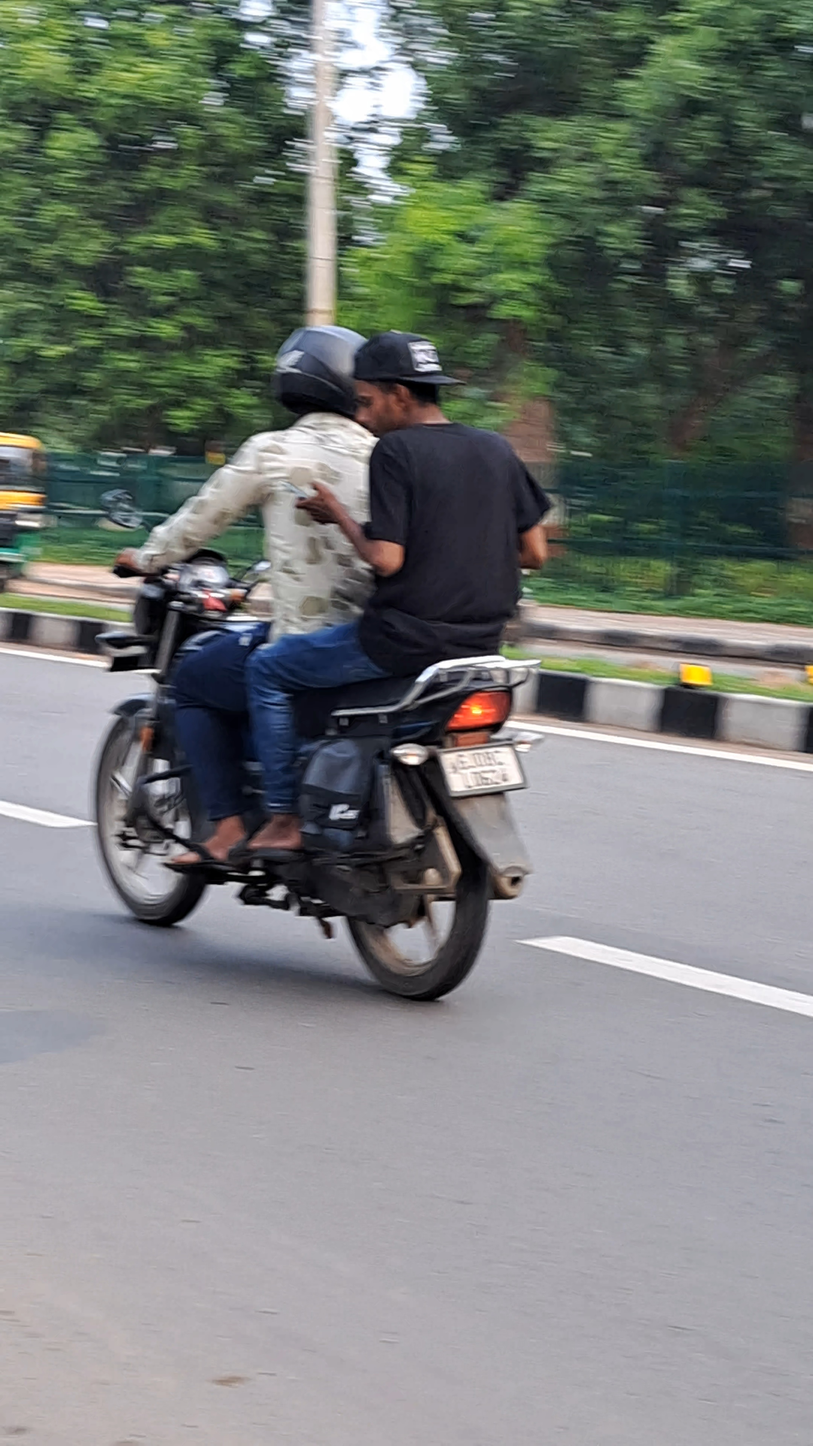BikeWithRider: (50, 306, 578, 1020)
Helmet: (254, 311, 387, 440)
NoHelmet: (340, 327, 456, 437)
